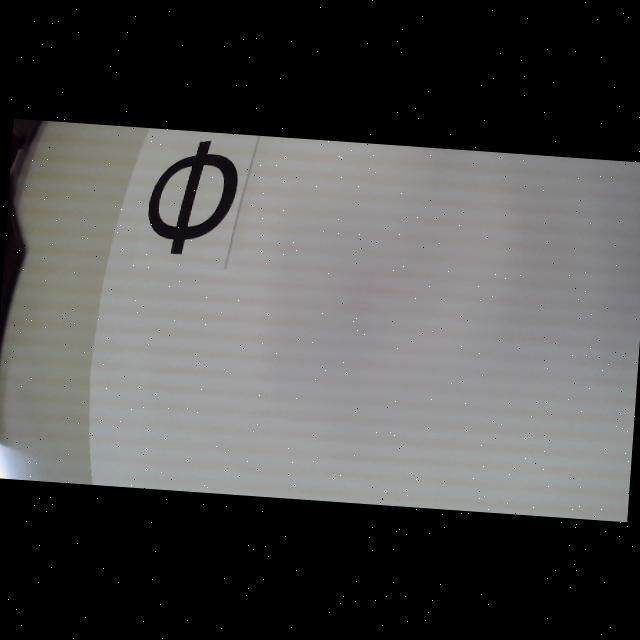PHI: (144, 136, 240, 258)
